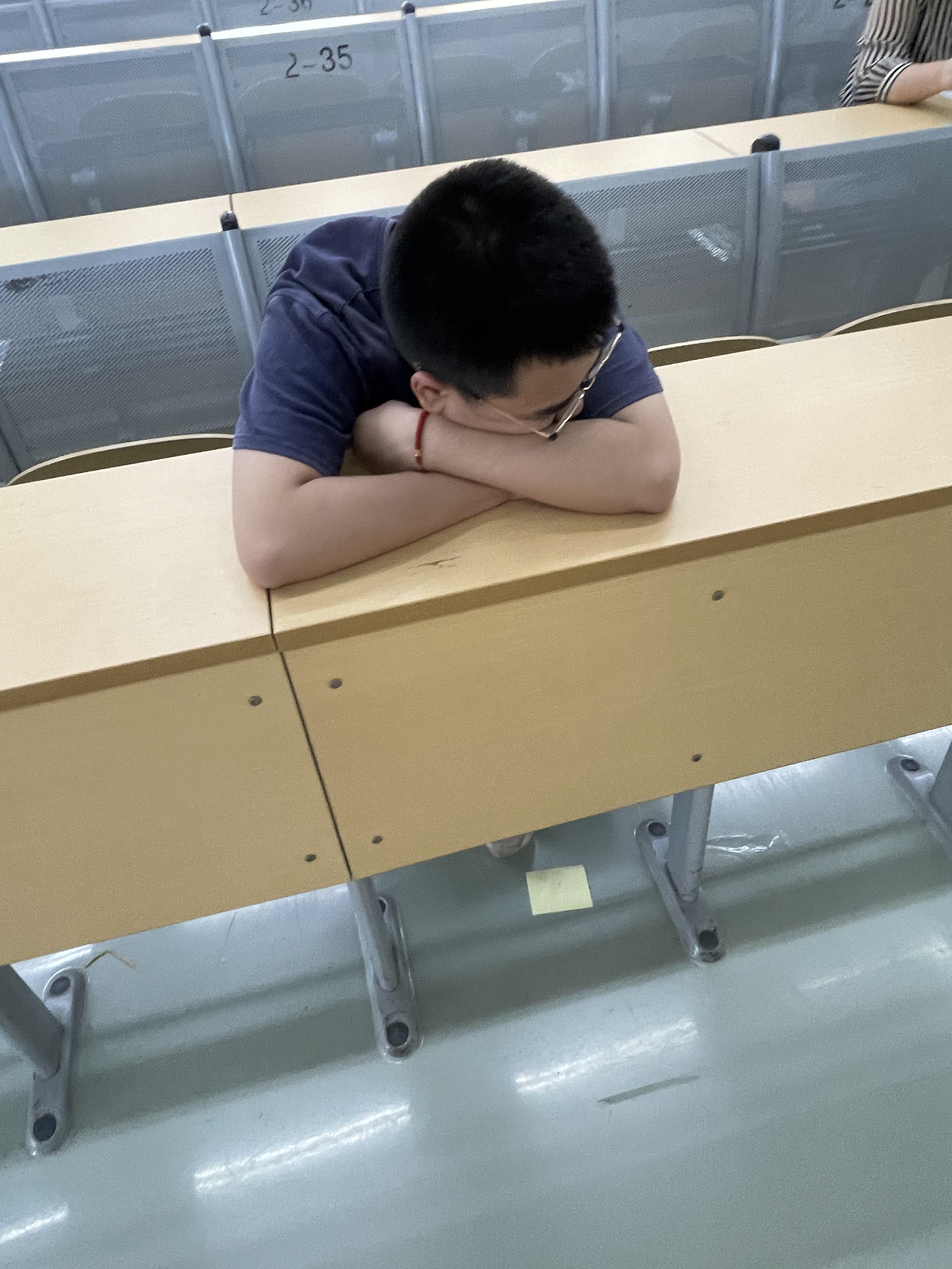sleep: (230, 160, 685, 589)
